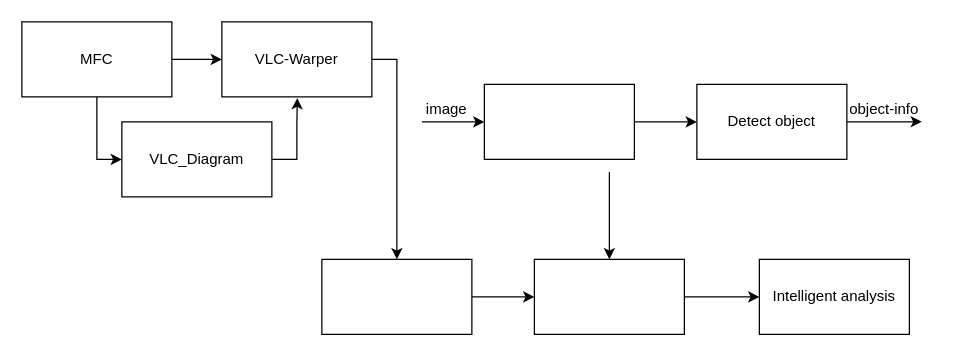
The diagram is 954 pixels wide and 356 high, and some of its shapes have lost their labels. Here are the shapes that lost their labels. From the top down, the box of each, then its label:
(483, 83, 634, 159): TensorRT
(321, 258, 472, 334): VLC Media Player
(533, 258, 684, 334): Extract frame
